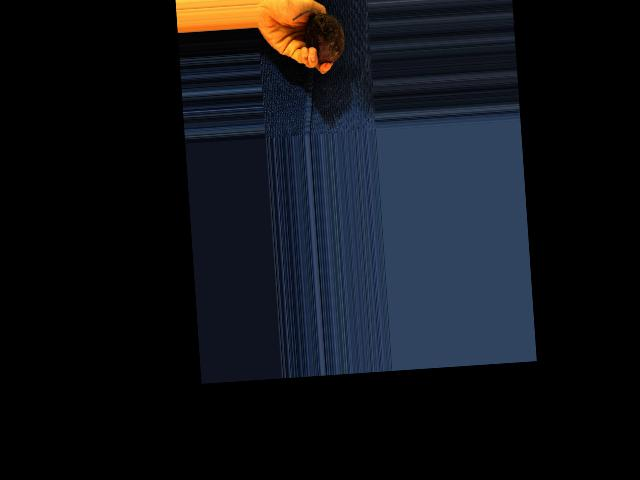beet: (290, 7, 345, 65)
